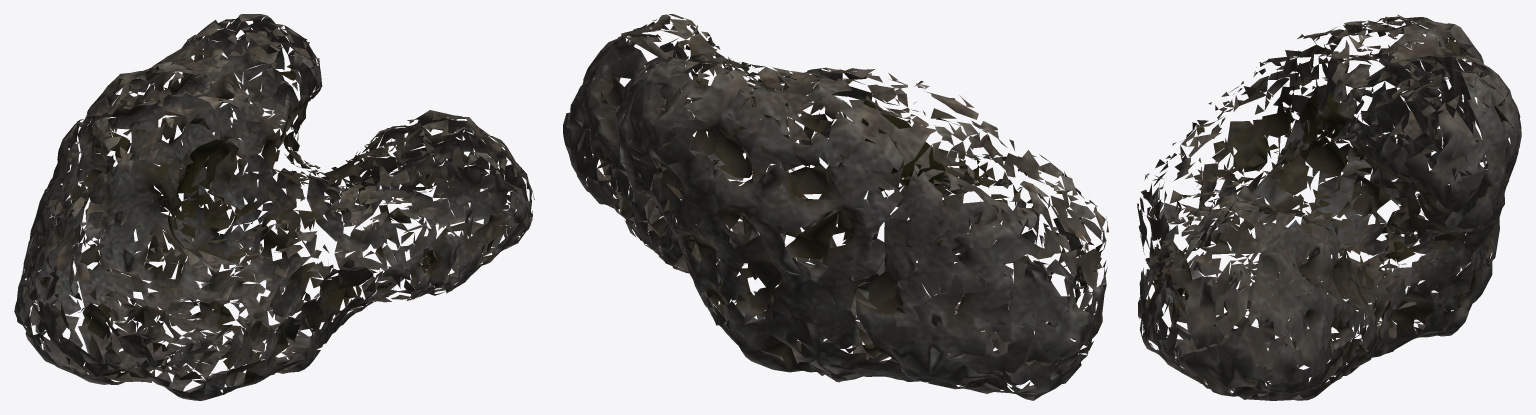
File: asteroid_uncommon_2_lod2.glb
3 renders of one model, left to right at view 1: azimuth 30°, elevation 25°; view 2: azimuth 150°, elevation 25°; view 3: azimuth 270°, elevation 25°, orthographic. The views are drawn at different scales.
Parts seen in each view (by area): view 1: model; view 2: model; view 3: model.
Boxes of the visible parts, x1,y1,x2,y2 form: model: (14, 14, 534, 400); model: (563, 14, 1108, 400); model: (1137, 14, 1521, 400).
Size of the model in its own units: 1.9 by 1.04 by 1.15.
1 material, 1 textured.
